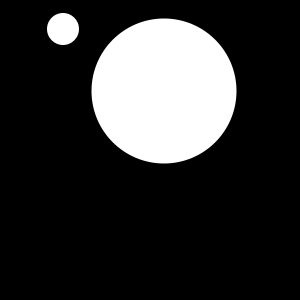rectangle: (91, 19, 236, 164), (47, 13, 79, 45)
triangle: (184, 121, 202, 139)
